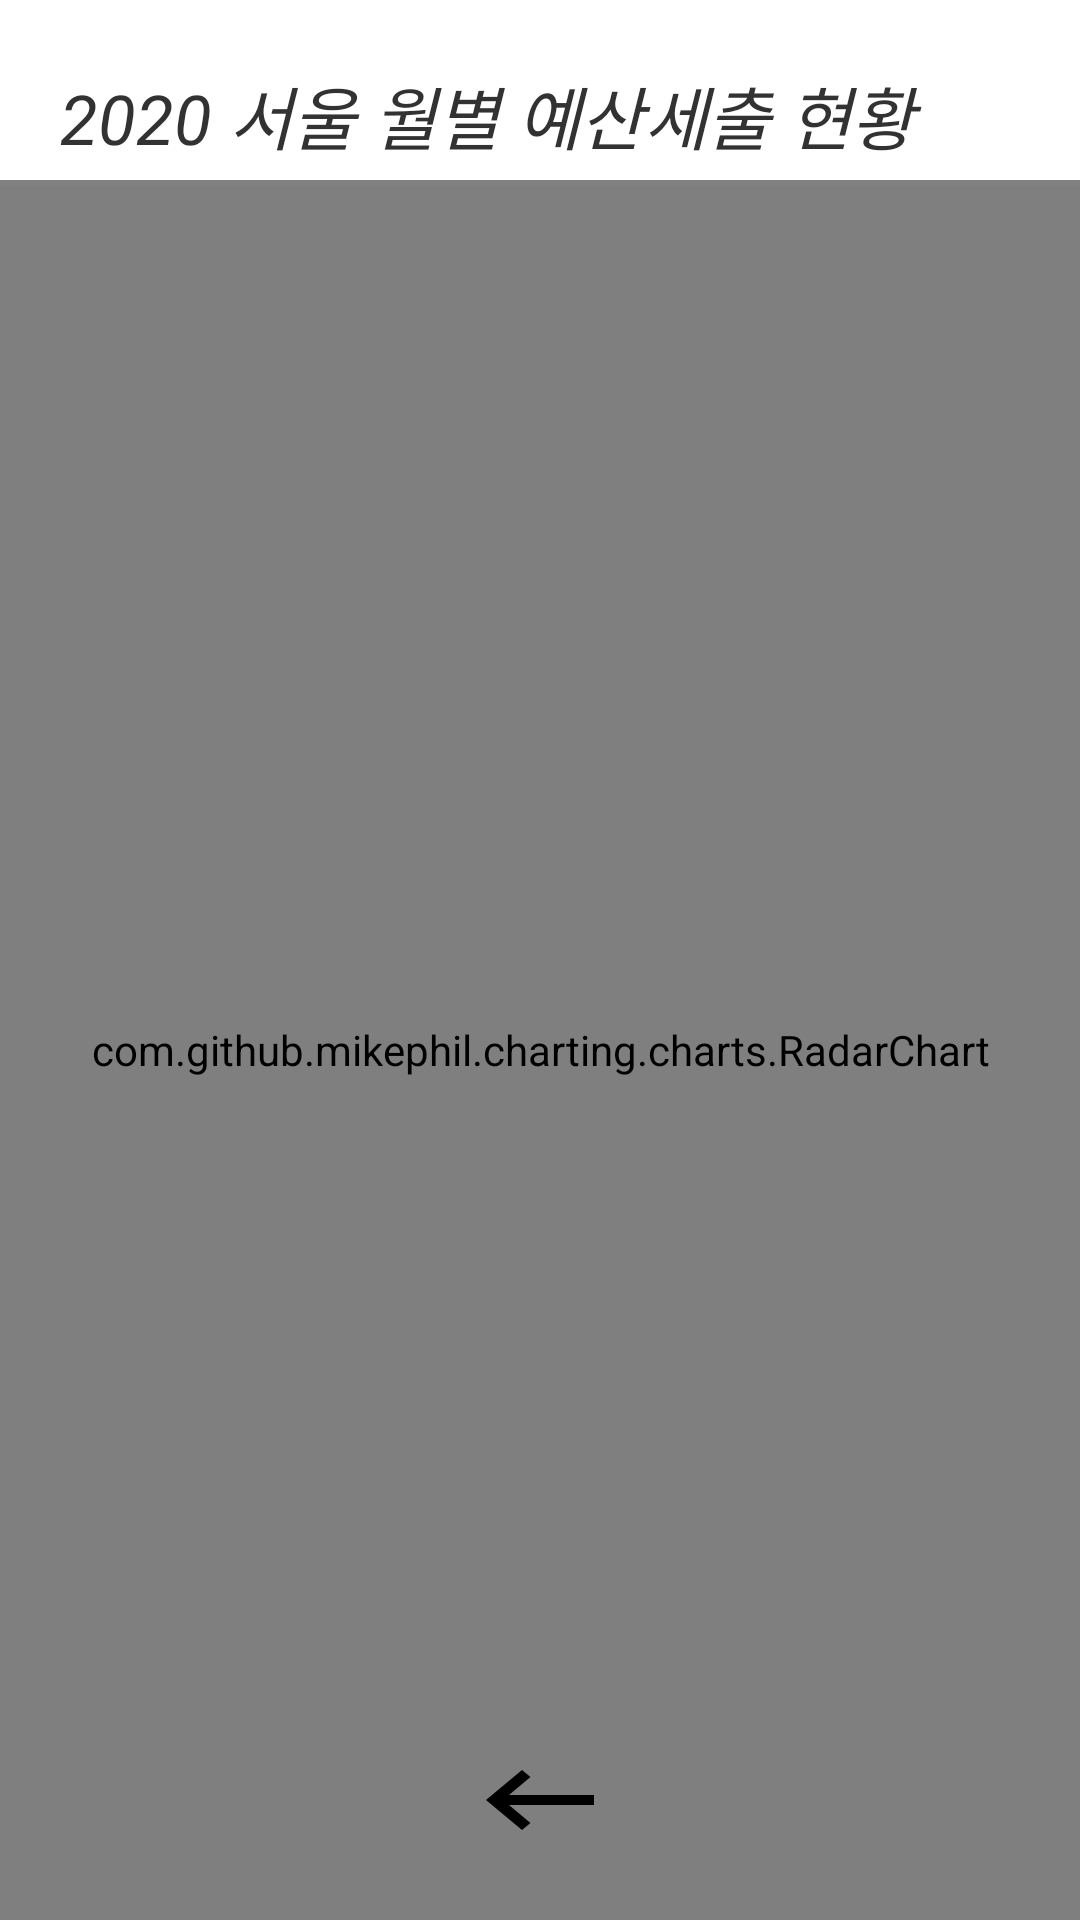

Icons on this 1080*1920 Android screen, each with the point to tap as (x=x, y=y):
chart back: (x=540, y=1800)
